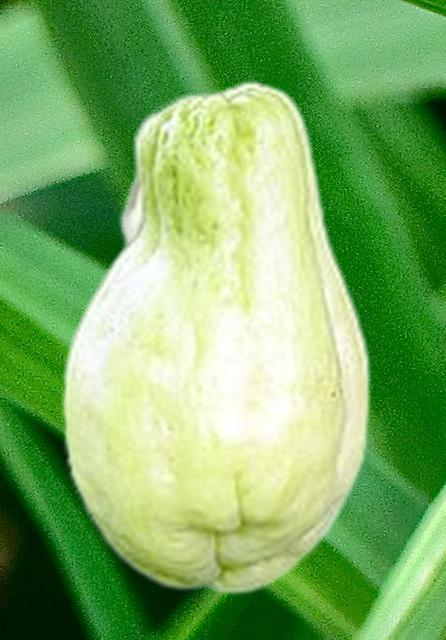sayote: (60, 79, 370, 595)
